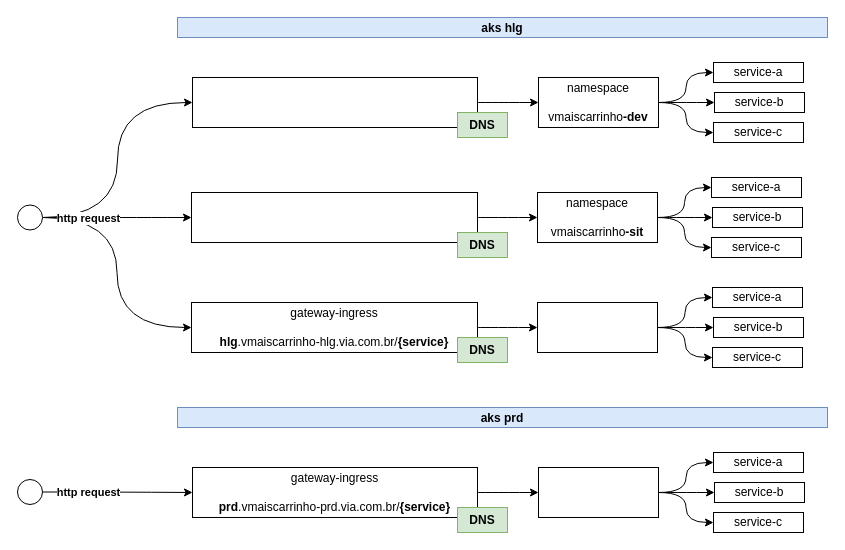
Some shapes in this 845 by 550 pixel diagram are drawn without their labels. Each missing label, with the centre of its shape:
gateway-ingress dev .vmaiscarrinho-hlg.via.com.br/ {service}: the point at 335,102
gateway-ingress sit .vmaiscarrinho-hlg.via.com.br/ {service}: the point at 334,217
namespace vmaiscarrinho -hlg: the point at 597,327
namespace vmaiscarrinho -prd: the point at 598,492
